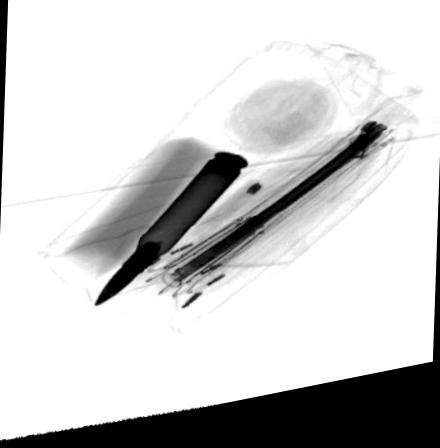Bullet: (91, 160, 251, 314)
